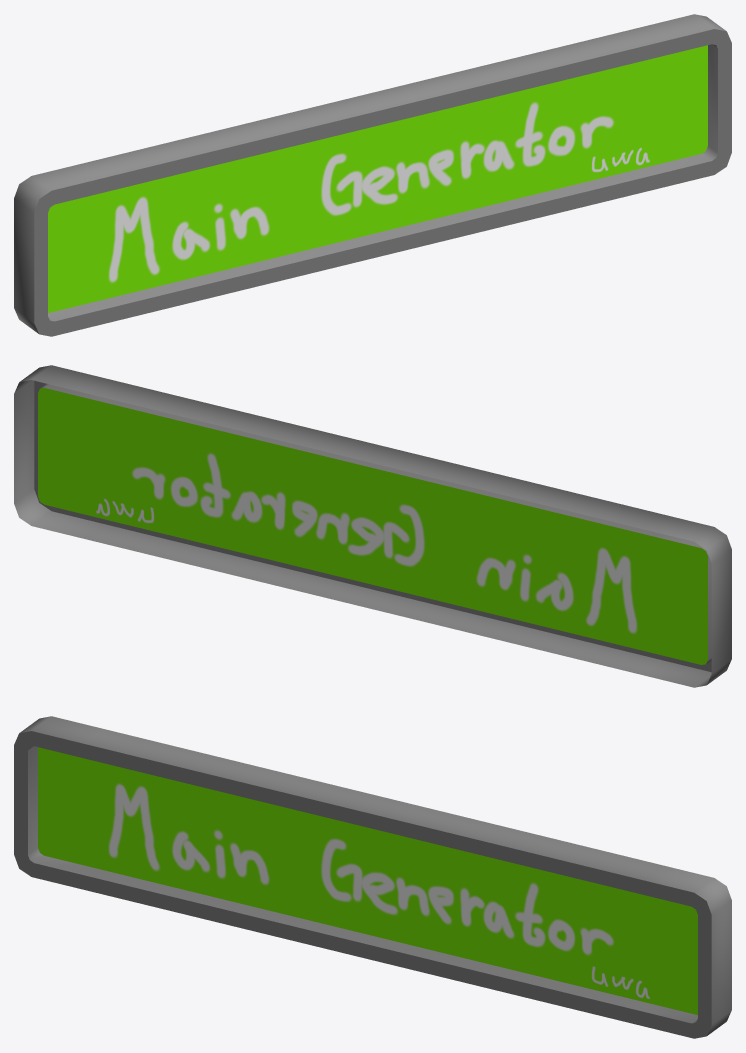
File: Generator.fbx
3 renders of one model, top to bottom at view 1: azimuth 30°, elevation 25°; view 2: azimuth 150°, elevation 25°; view 3: azimuth 330°, elevation 25°, orthographic.
Parts seen in each view (by area): view 1: Generator; view 2: Generator; view 3: Generator.
Boxes of the visible parts, bbox=[...] form: Generator: bbox=[14, 14, 731, 336]; Generator: bbox=[14, 365, 731, 687]; Generator: bbox=[14, 716, 731, 1038].
Size of the model in its own units: 250 by 50 by 12.53.
